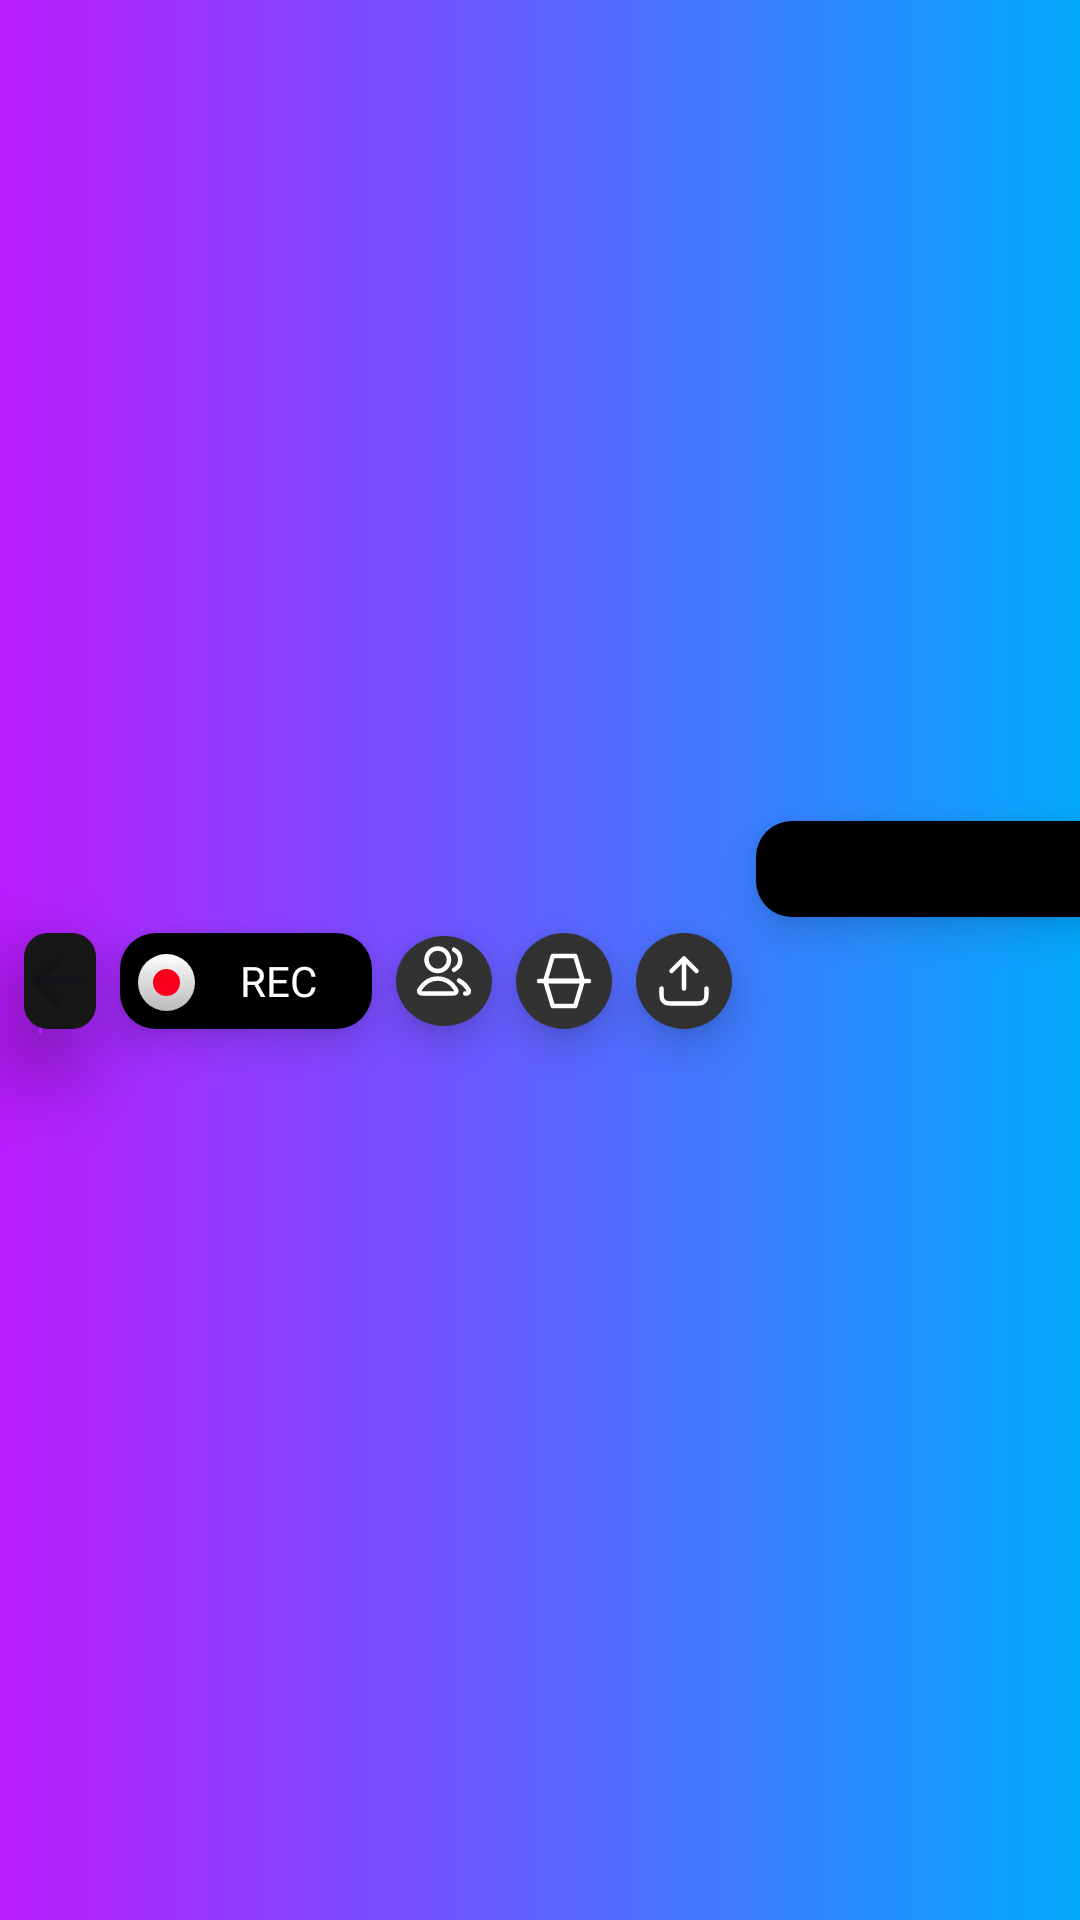

Icon click points for this 1080x1920 phone screenshot, format point (x, y):
2players: point (444, 981)
back: point (60, 981)
record play: point (168, 981)
